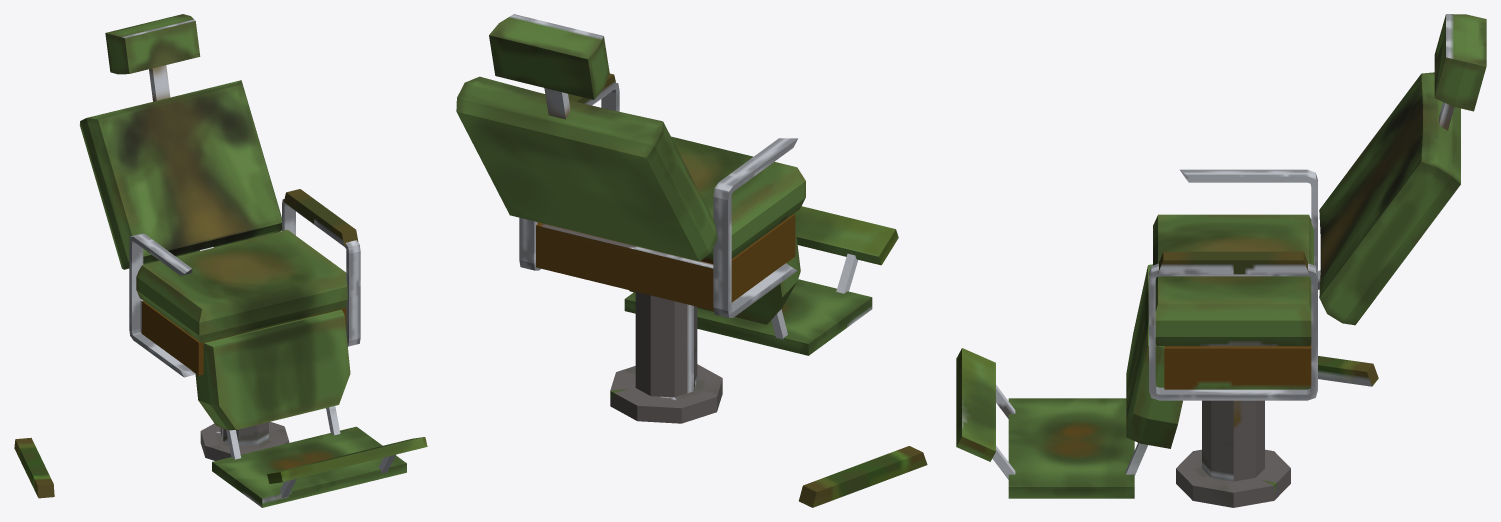
Rendered from SeatBroken.fbx.
3 renders of one model, left to right at view 1: azimuth 30°, elevation 25°; view 2: azimuth 150°, elevation 25°; view 3: azimuth 270°, elevation 25°, orthographic. The views are drawn at different scales.
Visible parts, largest first — view 1: chair broken; view 2: chair broken; view 3: chair broken.
Boxes of the visible parts, left/top/right/bottom form: chair broken: left=14, top=14, right=427, bottom=507; chair broken: left=456, top=14, right=927, bottom=507; chair broken: left=956, top=14, right=1486, bottom=507.
Size of the model in its own units: 0.8933 by 1.05 by 1.13.
